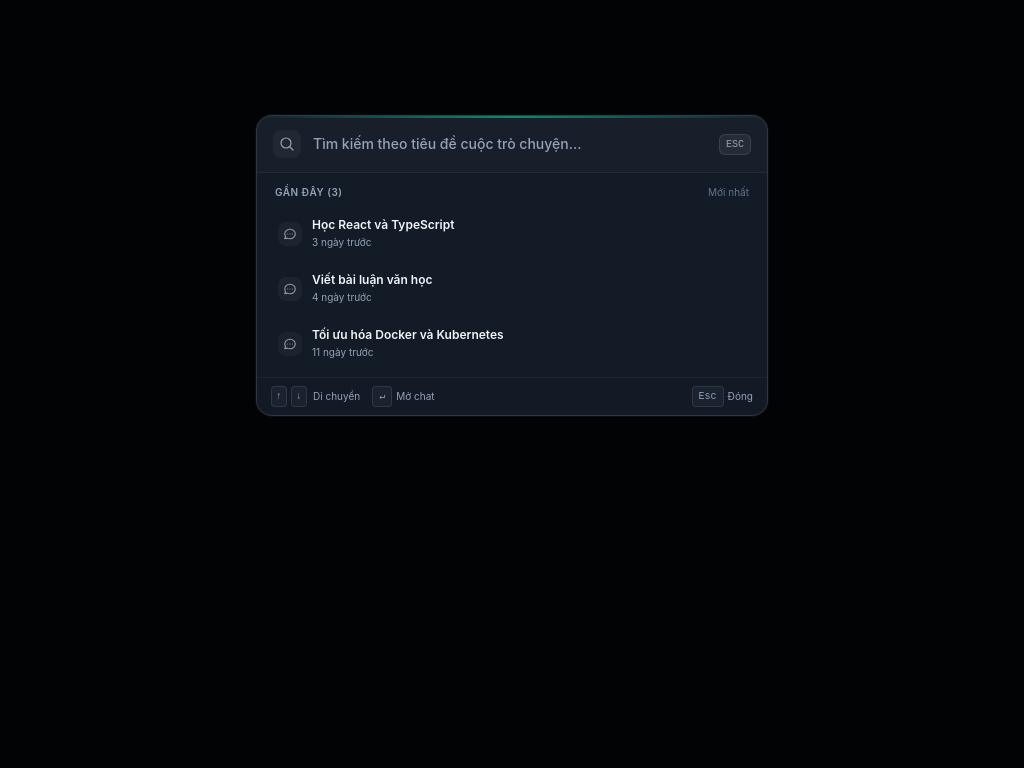
Test: SearchChatModal › should show empty results state when query does not match any chat
In the field with placeholder "Tìm kiếm theo tiêu đề cuộc trò chuyện...": (510, 144) x1=301 y1=134 x2=719 y2=154, type "Python machine learning"
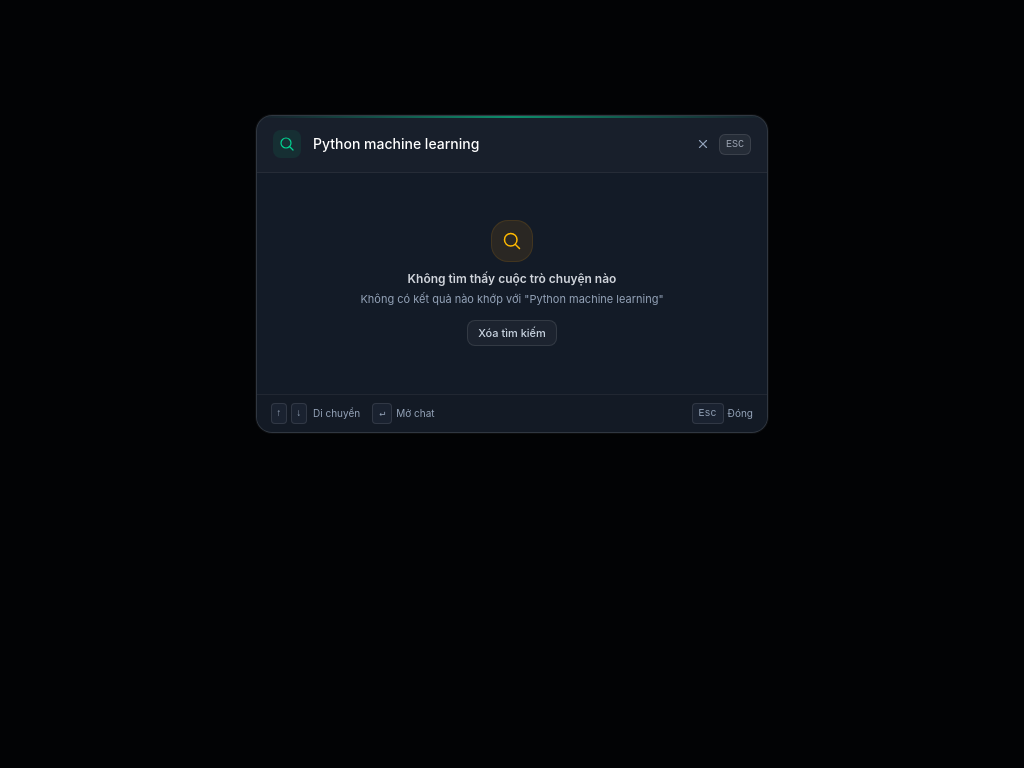
expect the text "Không tìm thấy cuộc trò chuyện nào" is shown: met, box x1=408 y1=271 x2=616 y2=287
expect the text "Không có kết quả nào khớp với \"Python machine learning\"" is shown: met, box x1=360 y1=291 x2=664 y2=308
